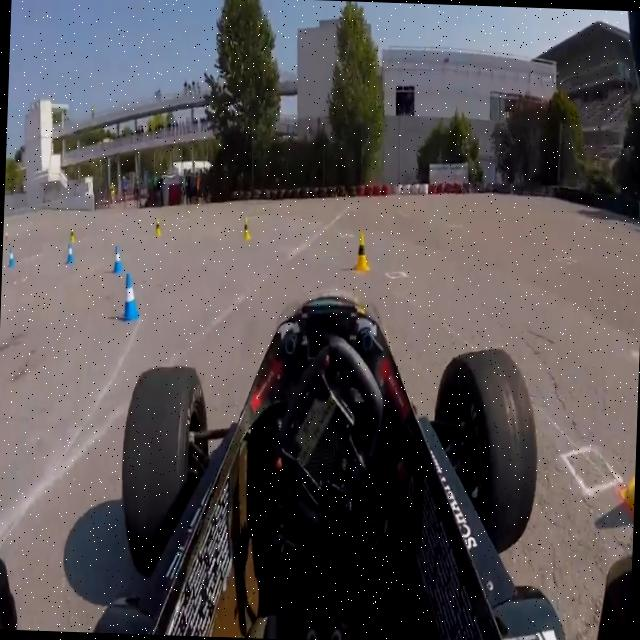blue_cone: (117, 273, 143, 323), (111, 242, 125, 274), (64, 242, 74, 264), (7, 245, 15, 268)
yellow_cone: (621, 389, 638, 530), (351, 231, 373, 274), (242, 216, 251, 242), (154, 216, 161, 237), (69, 227, 75, 245)
